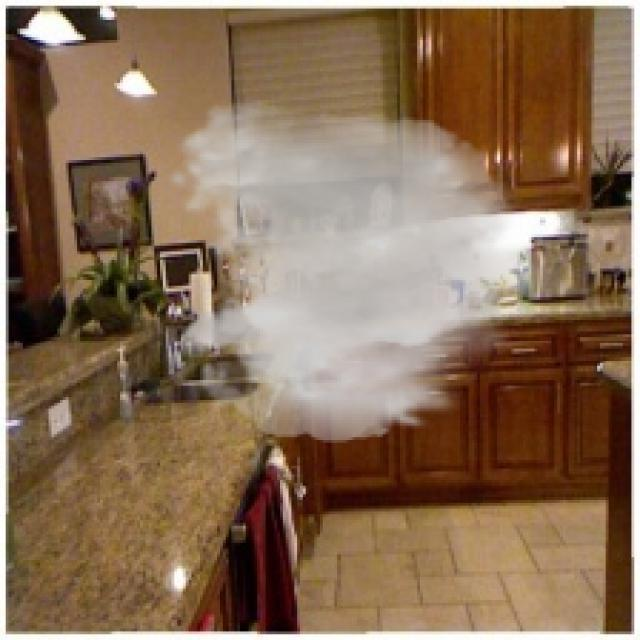Smoke: (163, 100, 566, 443)
